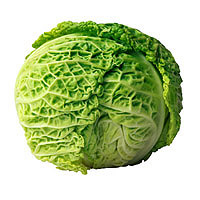cabbage: (14, 21, 184, 176)
